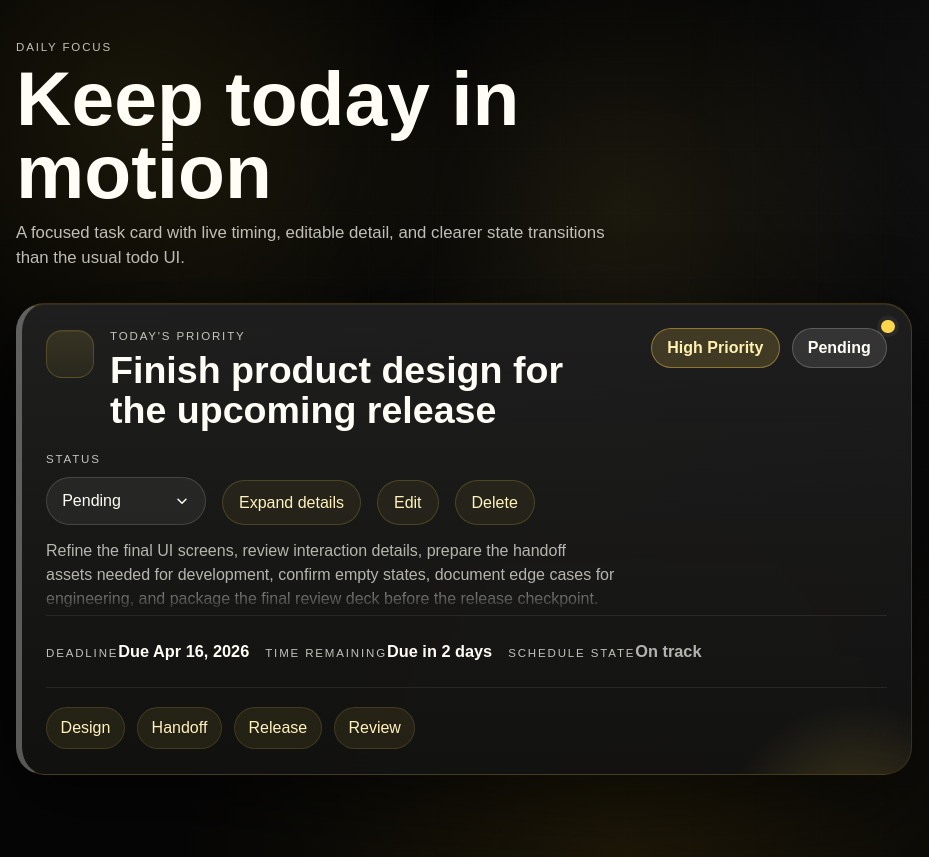
it: Todo card › keeps checkbox and status control synchronized
The width and height of the screenshot is (929, 857).
Expected: the checkbox with test id "test-todo-complete-toggle" is not checked, [46, 330, 94, 378]
Step 1. Select "Done" in the dropdown with test id "test-todo-status-control" → [126, 501], box [46, 477, 206, 525]
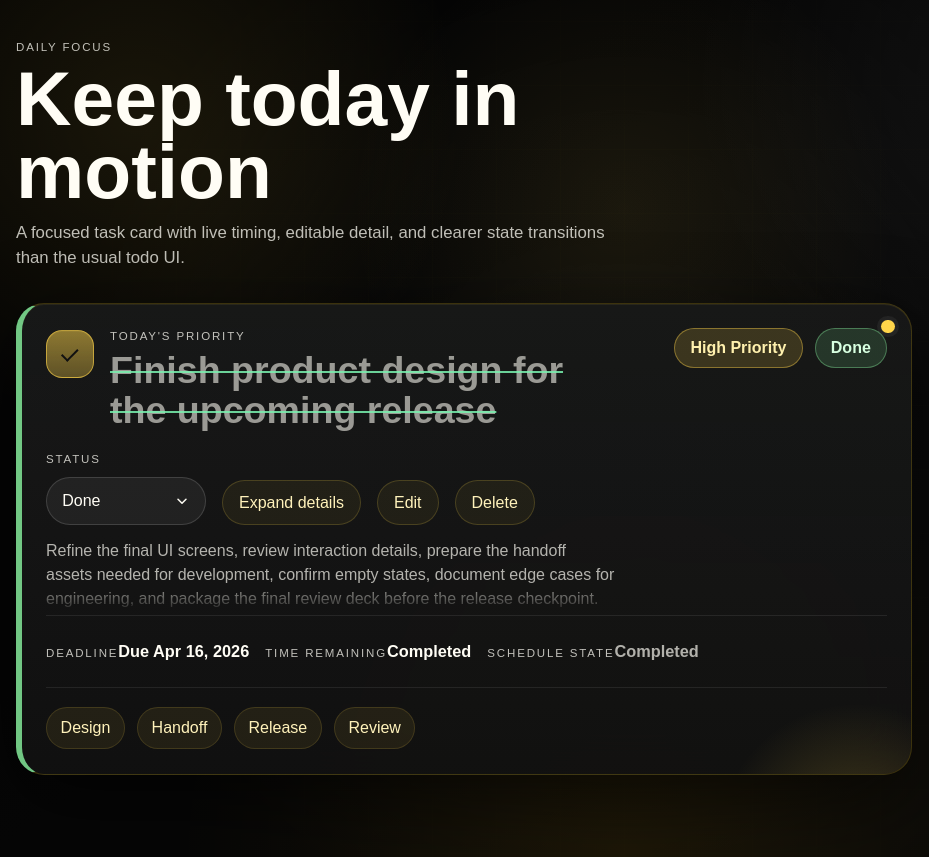
Now the checkbox with test id "test-todo-complete-toggle" is checked
Now the text with test id "test-todo-status" reads "Done", box [831, 339, 871, 356]
Now the text with test id "test-todo-time-remaining" reads "Completed", box [387, 642, 471, 660]
Step 2. Click the checkbox with test id "test-todo-complete-toggle" → [70, 354], box [46, 330, 94, 378]
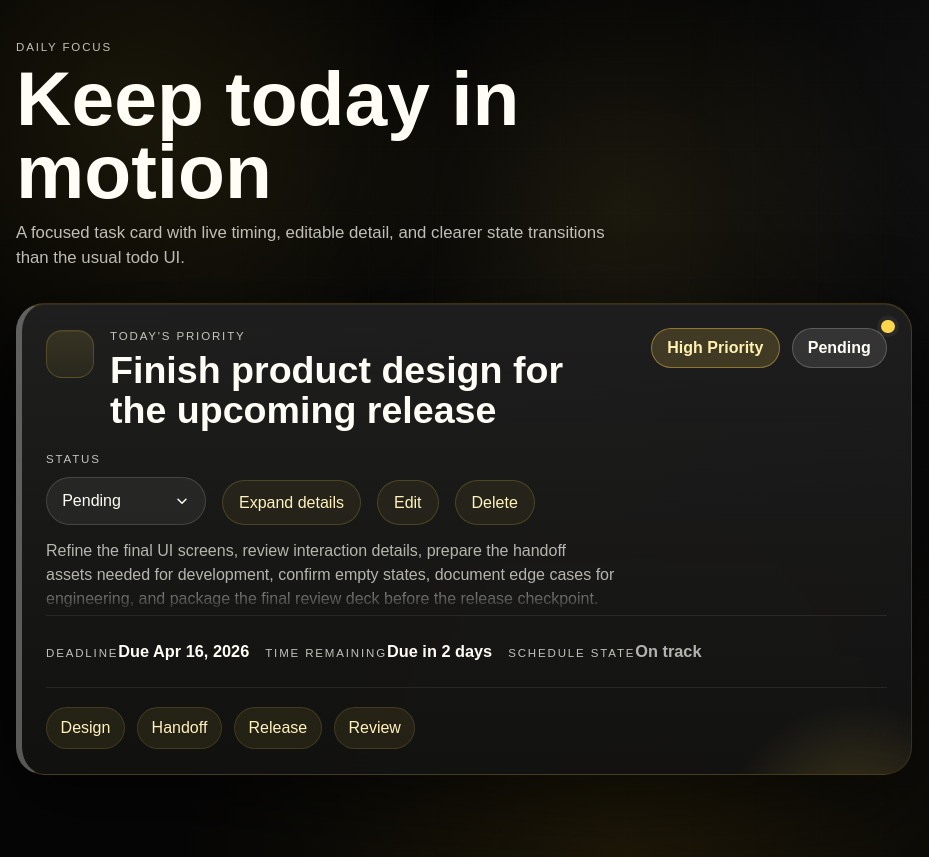
Now the checkbox with test id "test-todo-complete-toggle" is not checked, box [46, 330, 94, 378]
Now the text with test id "test-todo-status" reads "Pending", box [808, 339, 871, 356]
Step 3. Select "In Progress" in the dropdown with test id "test-todo-status-control" → [126, 501], box [46, 477, 206, 525]
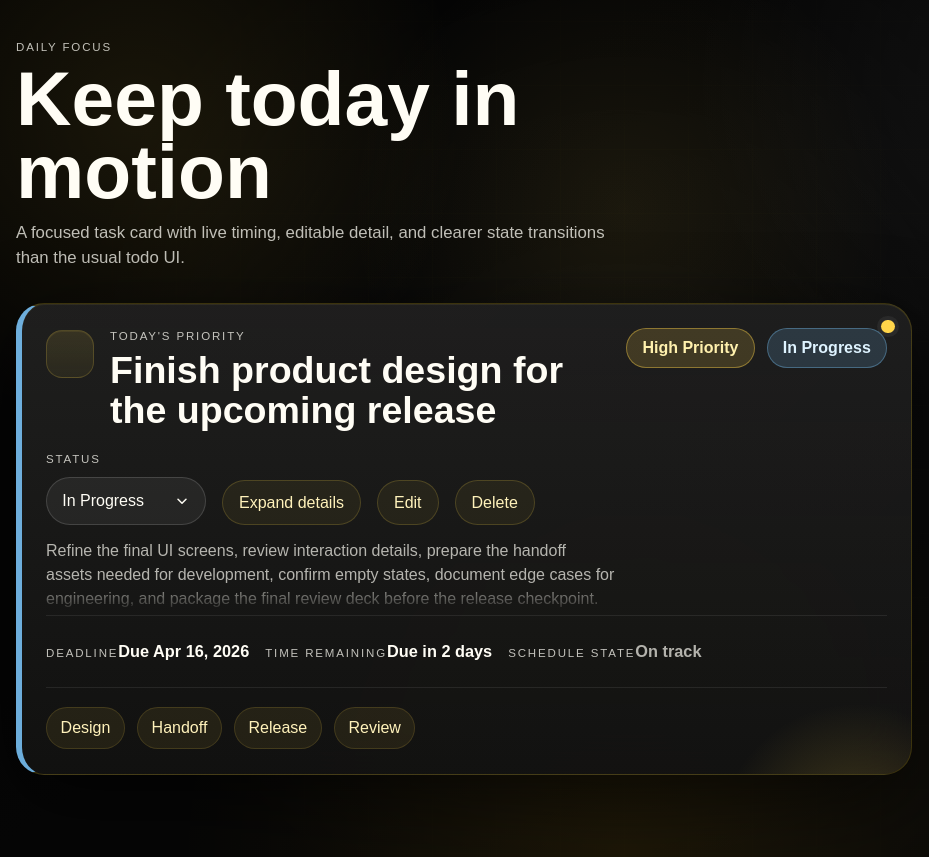
Now the checkbox with test id "test-todo-complete-toggle" is not checked, box [46, 330, 94, 378]
Now the text with test id "test-todo-status" reads "In Progress", box [783, 339, 871, 356]
